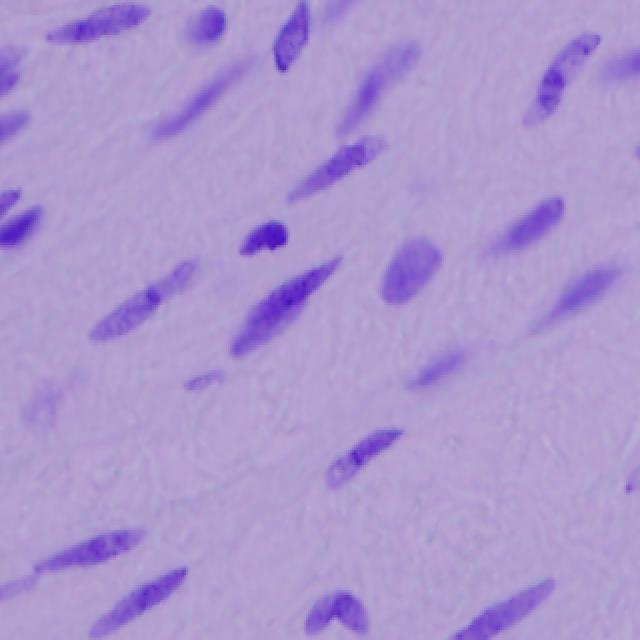cell: (0, 2, 640, 638), (0, 3, 640, 638), (286, 44, 419, 202), (409, 269, 532, 388), (230, 255, 341, 357), (1, 531, 139, 601), (90, 261, 200, 341), (151, 57, 256, 140), (521, 36, 599, 126), (515, 270, 619, 334), (91, 570, 186, 634), (482, 198, 565, 260), (456, 584, 551, 637), (325, 428, 402, 488), (46, 3, 150, 43), (380, 238, 442, 305), (0, 177, 44, 246), (272, 2, 310, 74), (305, 589, 365, 634), (239, 219, 290, 255), (185, 6, 226, 45), (240, 222, 288, 254), (0, 49, 22, 96), (1, 109, 30, 143), (184, 369, 226, 391), (604, 55, 640, 79)
